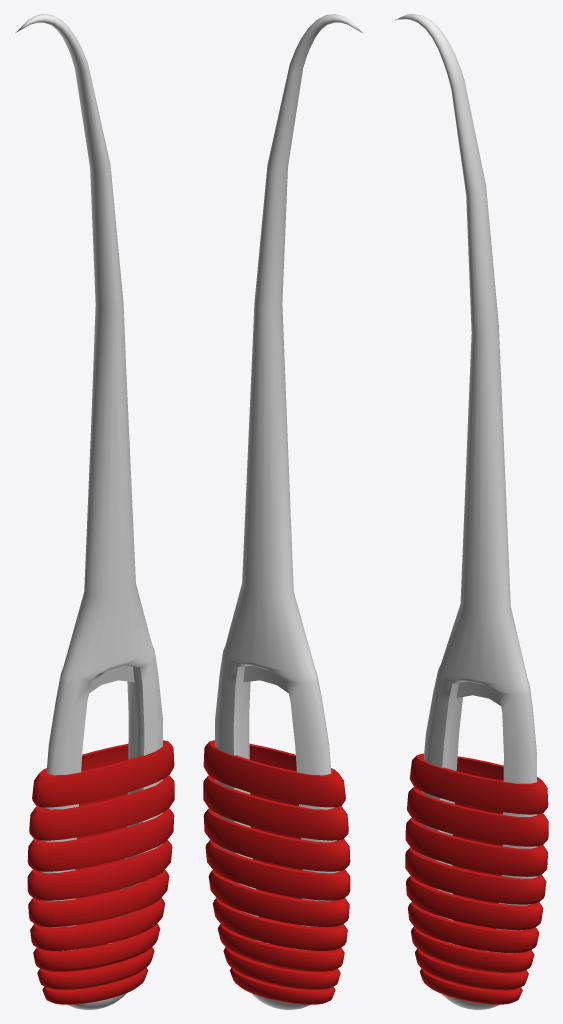
The model's file is NEWneedle_bended_2.FBX.
The picture shows the model from 3 angles, left to right: view 1: azimuth 30°, elevation 25°; view 2: azimuth 150°, elevation 25°; view 3: azimuth 330°, elevation 25°; orthographic projection. The views are drawn at different scales.
Parts seen in each view (by area): view 1: Cylinder067; view 2: Cylinder067; view 3: Cylinder067.
Part boxes in pixels (x1,y1,x2,y2): Cylinder067: [15, 14, 174, 1009]; Cylinder067: [203, 14, 362, 1009]; Cylinder067: [393, 14, 548, 1009].
Size of the model in its own units: 10.33 by 62.12 by 3.19.
